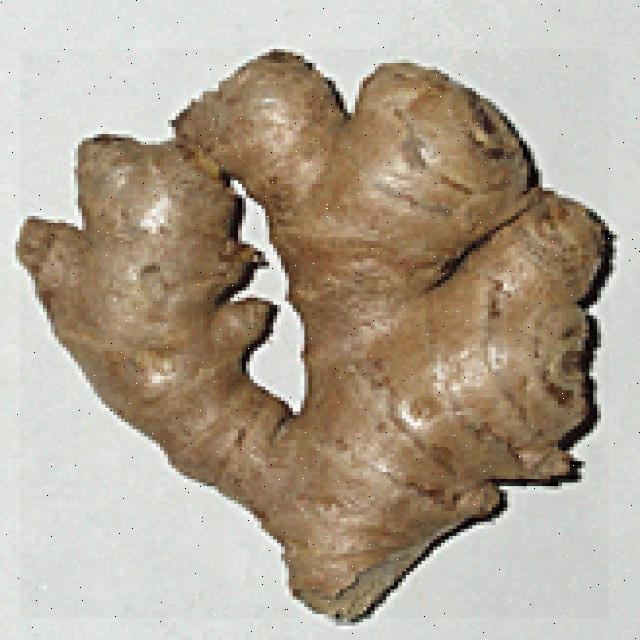ginger: (19, 48, 607, 617)
